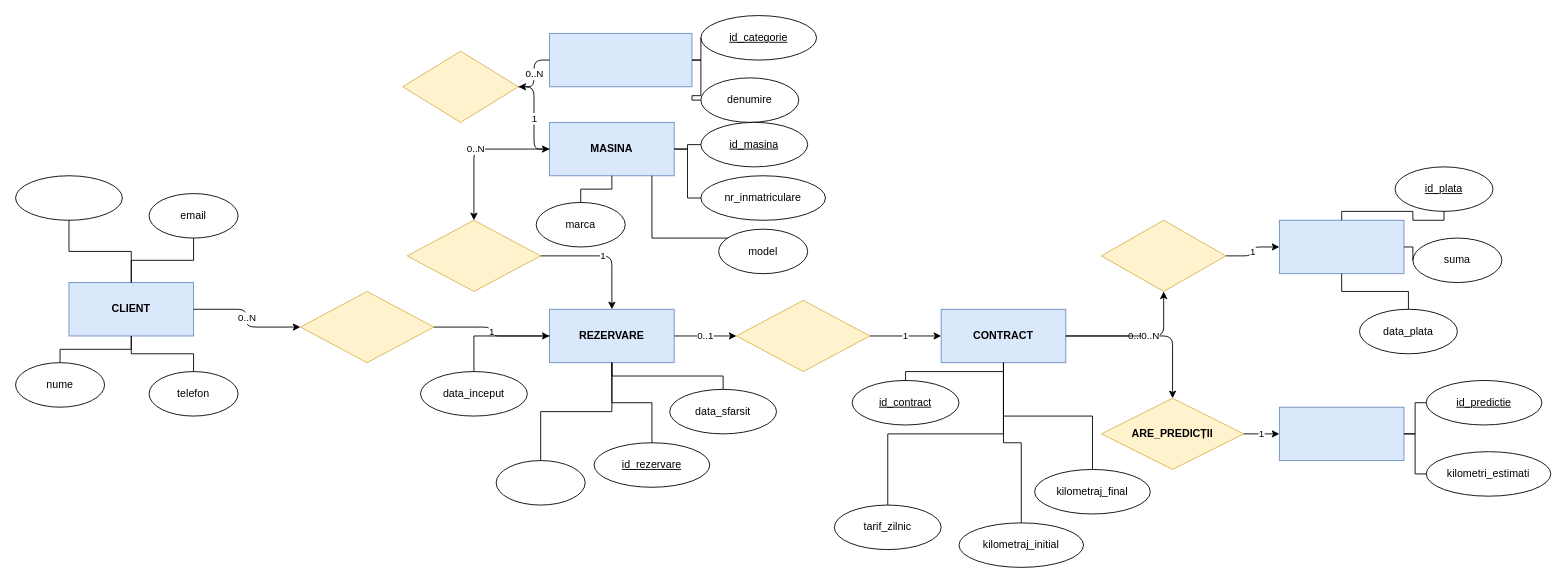
Some shapes in this 1566 by 583 pixel diagram are drawn without their labels. Here are the shapes that lost their labels. From the top down, the centre of each, then its label:
At [620,59]: "CATEGORIE_AUTO".
At [460,86]: "INCLUDE".
At [68,197]: "id_client".
At [473,255]: "ARE_REZERVĂRI".
At [1163,255]: "ARE_PLĂȚI".
At [1341,246]: "PLATA".
At [366,327]: "EFECTUEAZĂ".
At [803,335]: "GENEREAZĂ".
At [1341,433]: "PREDICTIE".
At [540,482]: "stare".
